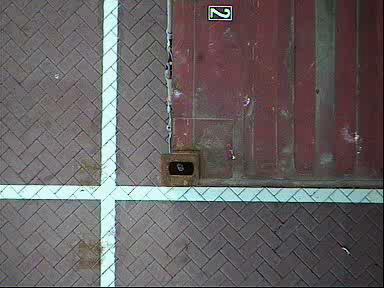groundmarker_2: (178, 1, 248, 94)
